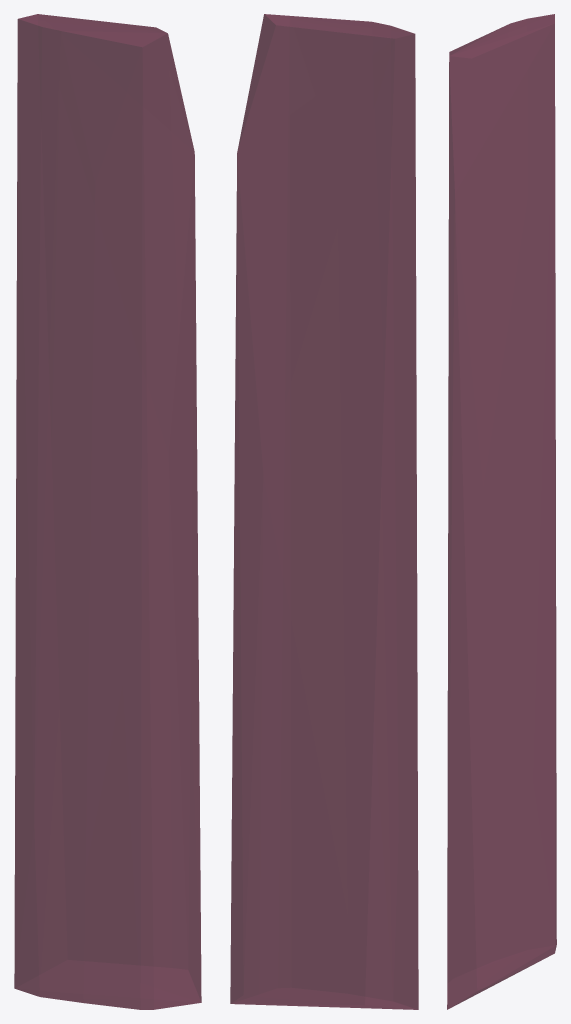
3 views of the same model, side by side, from view 1: azimuth 30°, elevation 25°; view 2: azimuth 210°, elevation 25°; view 3: azimuth 270°, elevation 25° (orthographic). The views are drawn at different scales.
Visible parts, largest first — view 1: Shape_IndexedFaceSet.068_Shape_IndexedFaceSet.10471; view 2: Shape_IndexedFaceSet.068_Shape_IndexedFaceSet.10471; view 3: Shape_IndexedFaceSet.068_Shape_IndexedFaceSet.10471.
Boxes of the visible parts, box(x1,y1,x2,y2) form: Shape_IndexedFaceSet.068_Shape_IndexedFaceSet.10471: box(14, 14, 201, 1009); Shape_IndexedFaceSet.068_Shape_IndexedFaceSet.10471: box(230, 14, 418, 1009); Shape_IndexedFaceSet.068_Shape_IndexedFaceSet.10471: box(447, 14, 556, 1009).
Size of the model in its own units: 0.1348 by 0.9503 by 0.1007.
